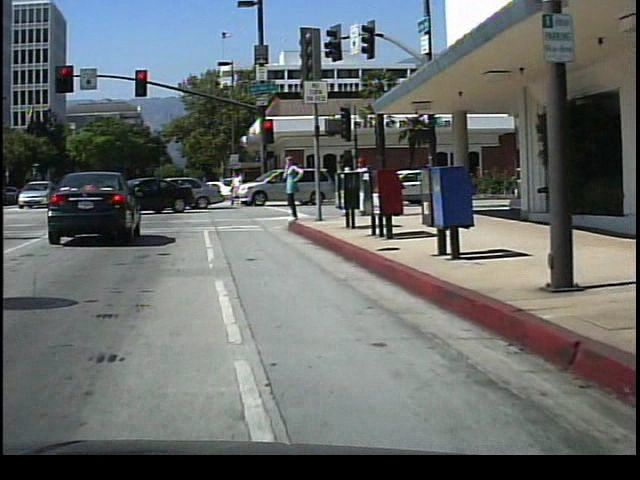person: (281, 150, 310, 222), (356, 152, 378, 217), (338, 152, 360, 215)
